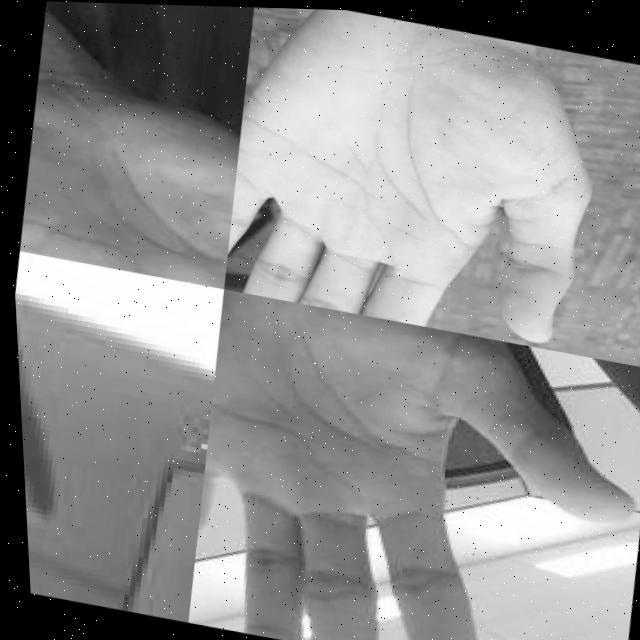no-gloves: (168, 287, 640, 640), (209, 5, 617, 352), (8, 42, 255, 288), (10, 251, 94, 598)
